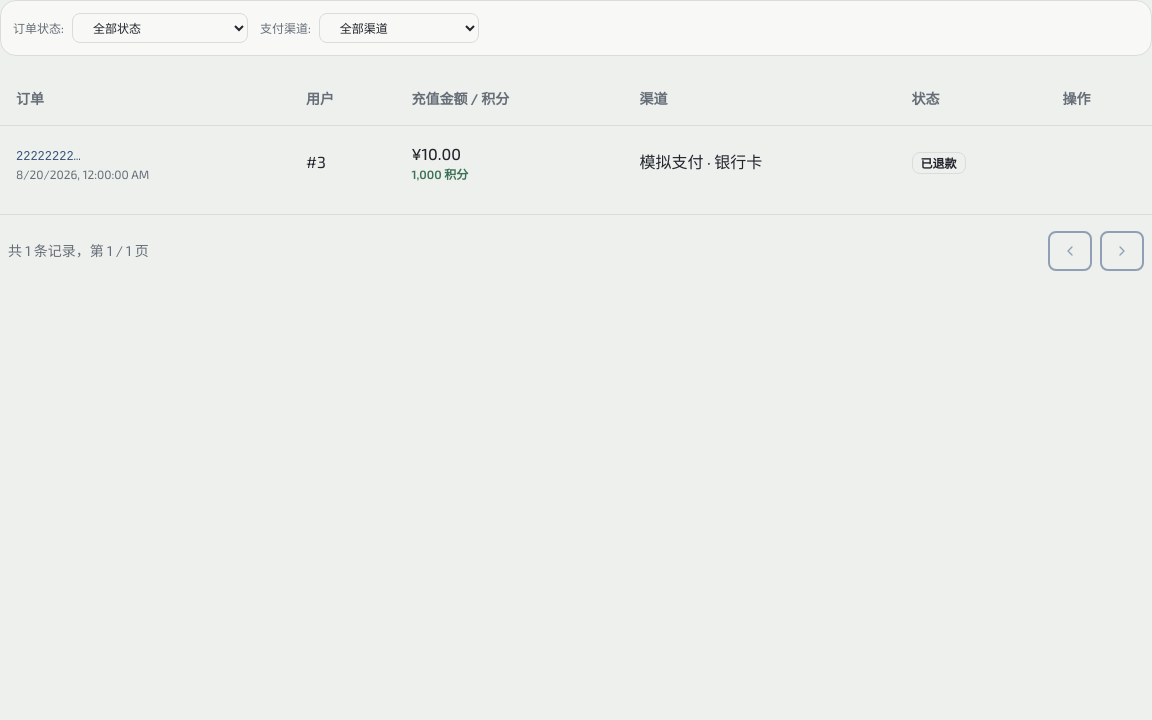
Test: AdminRechargeOrders refund gate › displays correct points label for credited vs refunded status in detail view
Click the button "22222222…" at (48, 157), box x1=16 y1=149 x2=81 y2=165
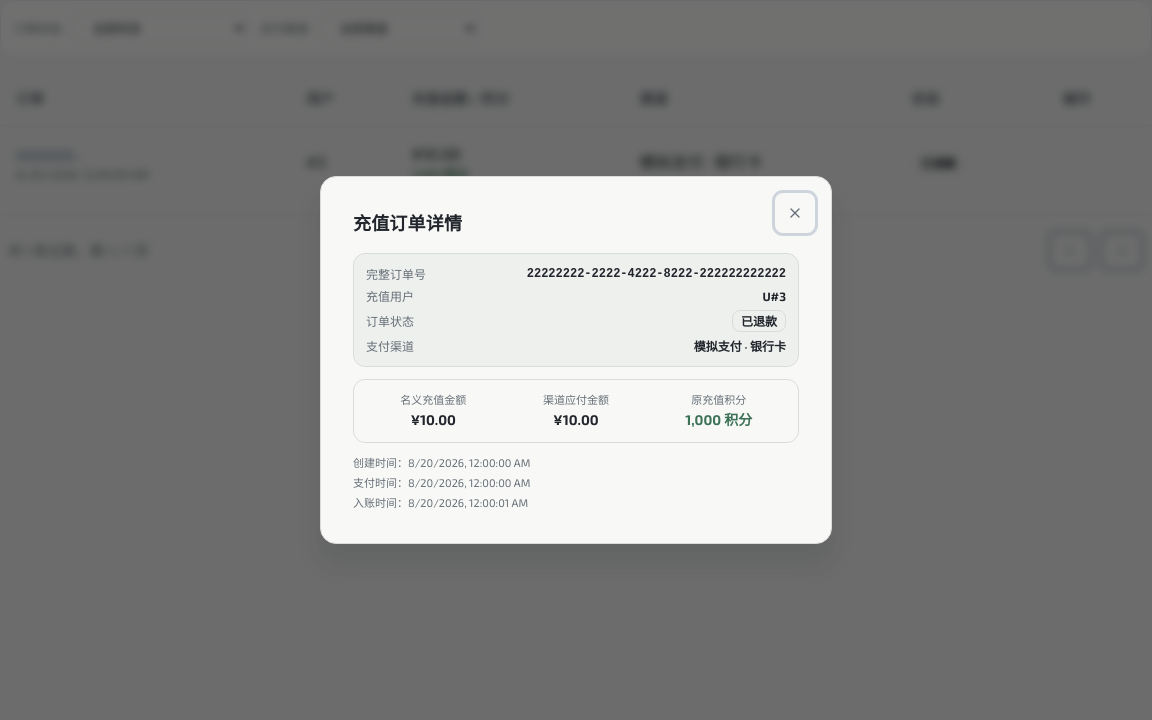
Expected: the text "原充值积分" is shown, x1=691 y1=393 x2=746 y2=406
